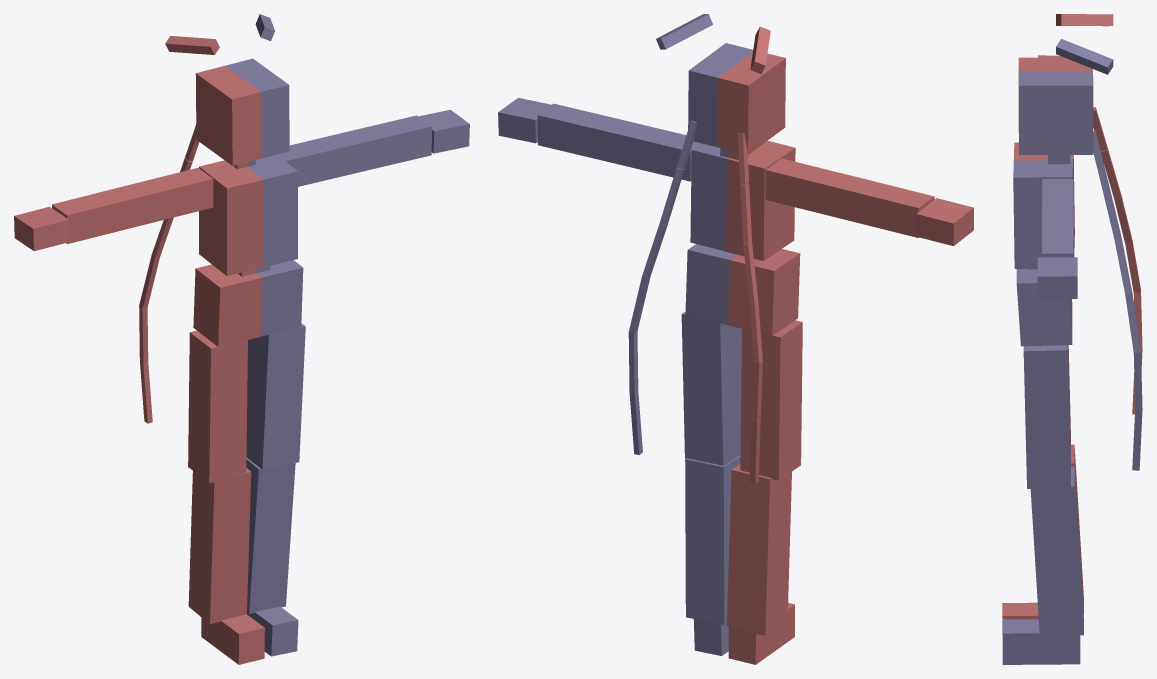
File: BoxUnityChan.fbx
3 views of the same model, side by side, from view 1: azimuth 30°, elevation 25°; view 2: azimuth 150°, elevation 25°; view 3: azimuth 270°, elevation 25° (orthographic). The views are drawn at different scales.
Visible parts, largest first — view 1: Body, Head, LegR, UpperLegR, Hip, UpperLegL, LegL, UpperArmR, UpperArmL, ArmR, ArmL, FootR (+4 smaller); view 2: LegR, Body, Head, UpperLegL, UpperLegR, Hip, LegL, UpperArmR, UpperArmL, ArmR, ArmL, HandR (+4 smaller); view 3: Head, LegL, UpperLegL, Body, Hip, HootL, HandL, UpperArmL, ArmL, HeadRibbonL01, HeadRibbonR01, FootR (+12 smaller).
Boxes of the visible parts, box(x1,y1,x2,y2) form: Body: box(199, 154, 297, 275); Head: box(195, 58, 289, 165); LegR: box(188, 468, 251, 624); UpperLegR: box(188, 330, 247, 483); Hip: box(193, 260, 303, 346); UpperLegL: box(246, 323, 305, 469); LegL: box(246, 457, 295, 613); UpperArmR: box(111, 168, 213, 228); UpperArmL: box(277, 129, 372, 186); ArmR: box(52, 189, 127, 243); ArmL: box(358, 115, 431, 169); FootR: box(201, 614, 264, 664); LegR: box(726, 464, 791, 635); Body: box(690, 140, 795, 260); Head: box(688, 43, 785, 154); UpperLegL: box(681, 311, 741, 465); UpperLegR: box(740, 320, 802, 480); Hip: box(685, 244, 800, 335); LegL: box(685, 455, 740, 625); UpperArmR: box(765, 158, 872, 222); UpperArmL: box(599, 118, 700, 181); ArmR: box(856, 181, 934, 237); ArmL: box(537, 103, 615, 159); HandR: box(916, 198, 973, 246); Head: box(1018, 57, 1093, 154); LegL: box(1030, 466, 1083, 637); UpperLegL: box(1023, 345, 1070, 488); Body: box(1013, 142, 1074, 268); Hip: box(1016, 269, 1072, 346); HootL: box(1002, 619, 1080, 664); HandL: box(1037, 257, 1077, 298); UpperArmL: box(1042, 179, 1073, 223); ArmL: box(1042, 223, 1073, 257); HeadRibbonL01: box(1056, 38, 1113, 74); HeadRibbonR01: box(1056, 14, 1113, 26); FootR: box(1002, 602, 1038, 619).
Size of the model in its own units: 118 by 156 by 31.82.
